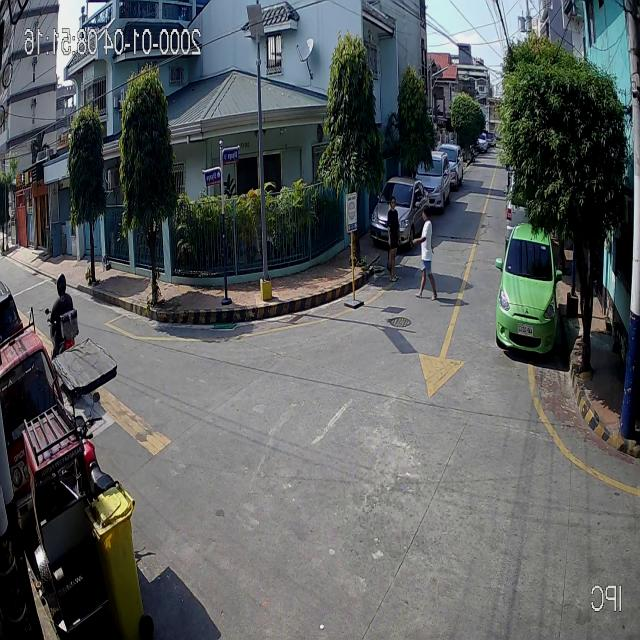standing: (386, 195, 402, 282)
walking: (411, 205, 437, 301)
